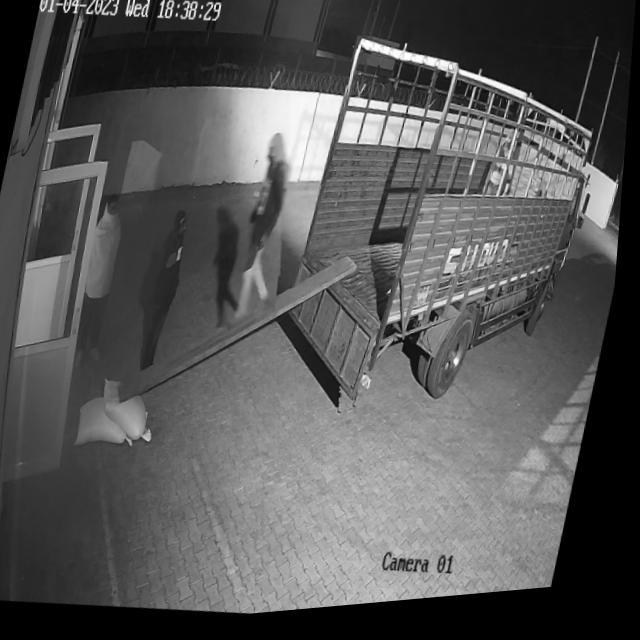sack: (98, 375, 170, 447), (80, 392, 149, 454)
